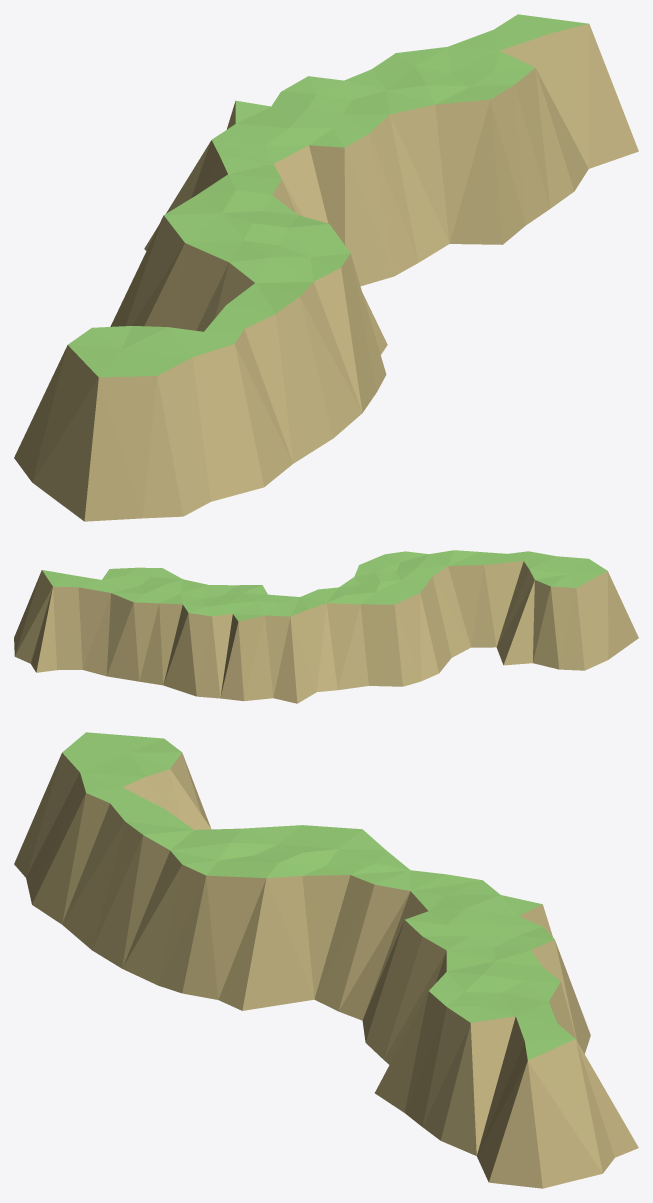
File: CPT_Island_M_c_04_LOD.fbx
3 views of the same model, one above another, from view 1: azimuth 30°, elevation 25°; view 2: azimuth 150°, elevation 25°; view 3: azimuth 270°, elevation 25° (orthographic). The views are drawn at different scales.
Visible parts, largest first — view 1: CPT_Island_M_c_04_LOD0; view 2: CPT_Island_M_c_04_LOD0; view 3: CPT_Island_M_c_04_LOD0.
Part boxes in pixels (<box>): CPT_Island_M_c_04_LOD0: <box>14,14,638,521</box>; CPT_Island_M_c_04_LOD0: <box>14,550,638,703</box>; CPT_Island_M_c_04_LOD0: <box>14,732,638,1188</box>.
Size of what is drawn, in the model's own units: 5547 by 811 by 4063.
